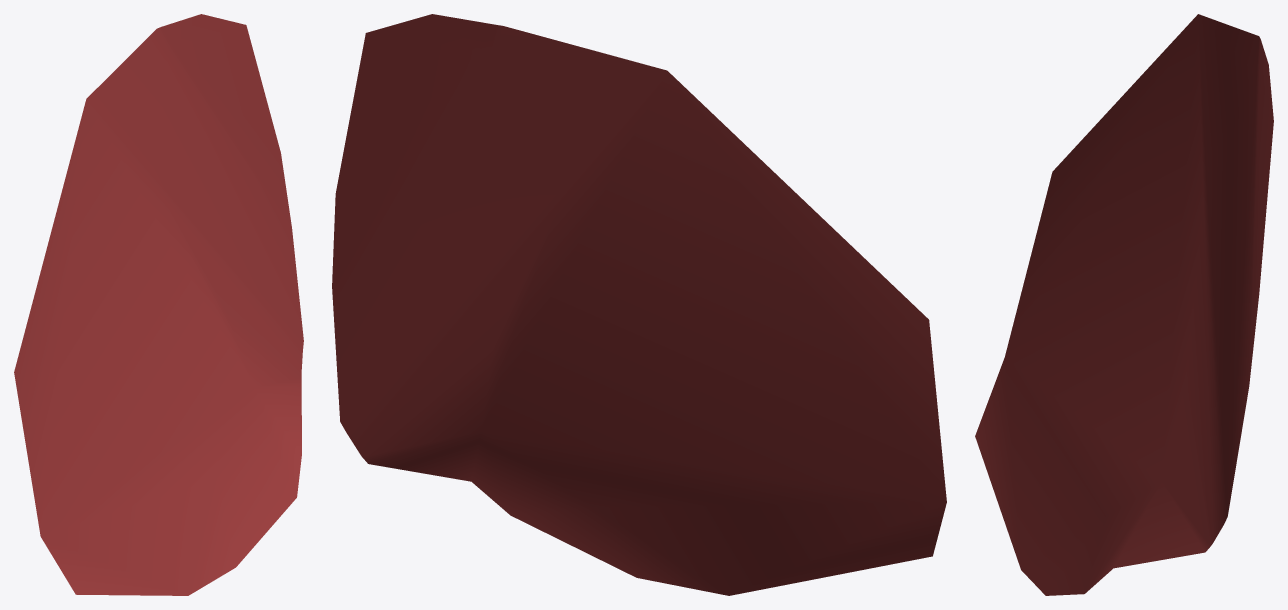
Rendered from anconeus-muscle-or.glb.
3 views of the same model, side by side, from view 1: azimuth 30°, elevation 25°; view 2: azimuth 150°, elevation 25°; view 3: azimuth 270°, elevation 25° (orthographic). The views are drawn at different scales.
Parts seen in each view (by area): view 1: Anconeus muscle.or; view 2: Anconeus muscle.or; view 3: Anconeus muscle.or.
Boxes of the visible parts, x1,y1,x2,y2 form: Anconeus muscle.or: (14,14,303,595); Anconeus muscle.or: (332,14,946,595); Anconeus muscle.or: (975,14,1273,595).
Size of the model in its own units: 0.0155 by 0.0195 by 0.00923.
